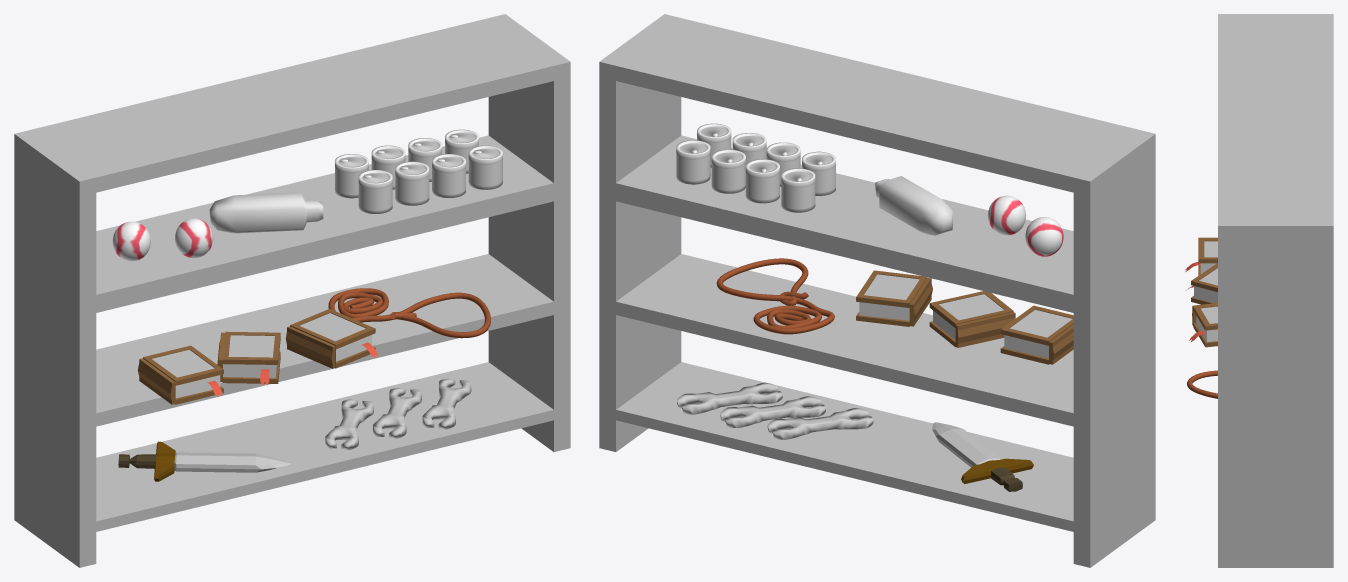
The model's file is shelf.fbx.
3 views of the same model, side by side, from view 1: azimuth 30°, elevation 25°; view 2: azimuth 150°, elevation 25°; view 3: azimuth 270°, elevation 25° (orthographic). The views are drawn at different scales.
Parts seen in each view (by area): view 1: Shelf, Juice, Sword, Rope, Book1.002, Book1, Book1.001, Can.003, Can.001, Can, Can.002, WrenchQ.002 (+11 smaller); view 2: Shelf, Rope, Juice, Sword, Book1.001, Book1.002, Book1, WrenchQ, WrenchQ.001, WrenchQ.002, Can.004, Can.006 (+11 smaller); view 3: Shelf, Book1.002, Book1.001, Book1, Rope, Cover1, Cover1.002.
Boxes of the visible parts, x1,y1,x2,y2 form: Shelf: (14, 14, 570, 567); Juice: (209, 192, 323, 233); Sword: (118, 441, 291, 481); Rope: (328, 288, 490, 338); Book1.002: (285, 309, 375, 368); Book1: (137, 345, 223, 404); Book1.001: (217, 331, 280, 383); Can.003: (468, 145, 502, 189); Can.001: (395, 161, 429, 205); Can: (358, 170, 392, 213); Can.002: (432, 154, 465, 197); WrenchQ.002: (422, 378, 471, 429); Shelf: (599, 14, 1155, 567); Rope: (716, 258, 834, 334); Juice: (875, 176, 952, 235); Sword: (932, 422, 1033, 491); Book1.001: (929, 291, 1015, 347); Book1.002: (856, 270, 932, 326); Book1: (1000, 305, 1073, 364); WrenchQ: (767, 408, 873, 439); WrenchQ.001: (720, 396, 825, 427); WrenchQ.002: (677, 382, 782, 414); Can.004: (781, 168, 815, 212); Can.006: (711, 149, 745, 193); Shelf: (1218, 14, 1333, 567); Book1.002: (1192, 303, 1217, 347); Book1.001: (1191, 263, 1217, 304); Book1: (1198, 237, 1217, 275); Rope: (1187, 370, 1217, 398); Cover1: (1204, 241, 1217, 257); Cover1.002: (1200, 306, 1217, 323).
Size of the model in its own units: 1821 by 1369 by 542.
